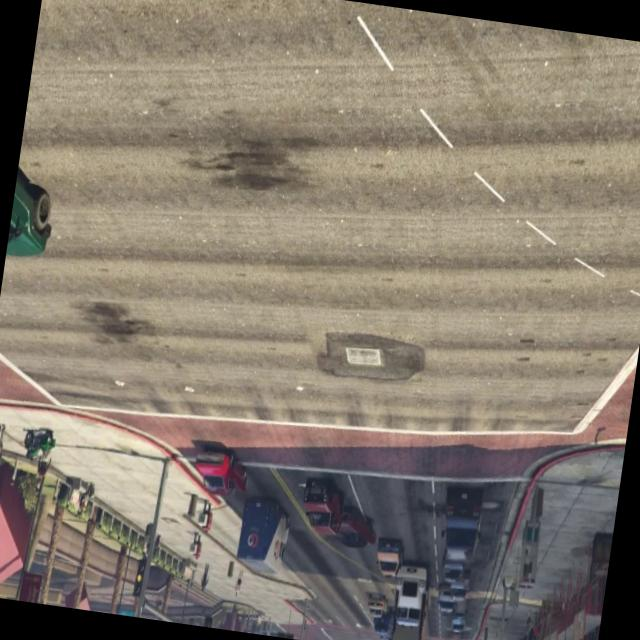Yellow-Signal: (128, 547, 151, 606), (274, 625, 298, 640), (200, 608, 217, 628)
